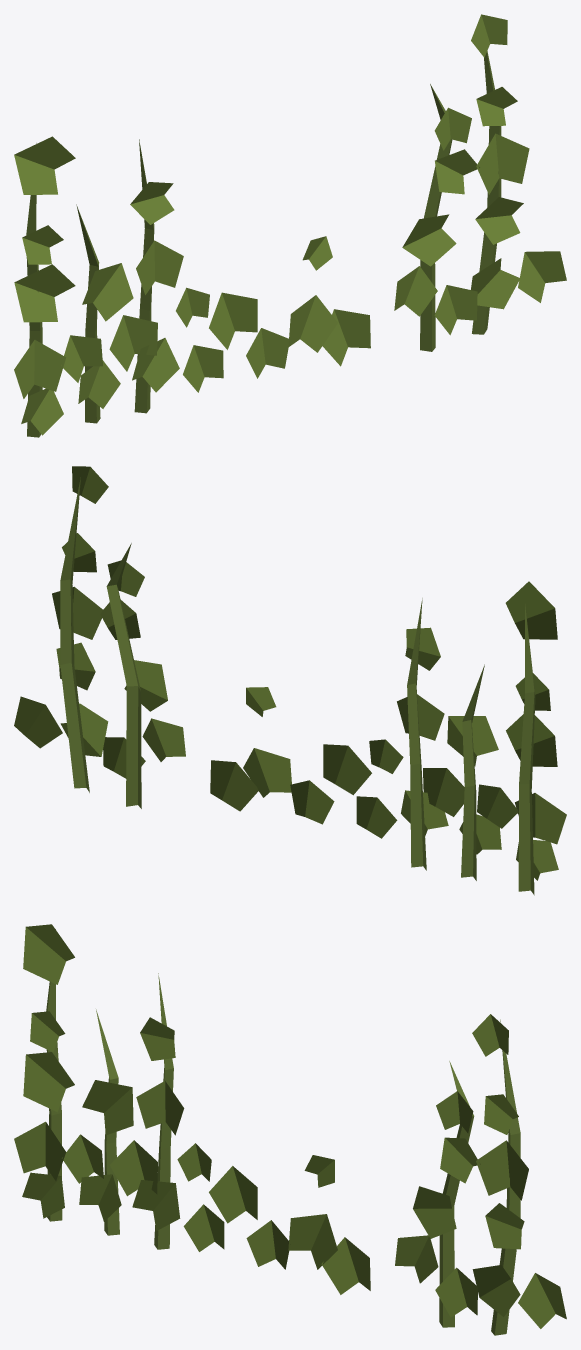
File: Creepers_1.fbx
3 renders of one model, top to bottom at view 1: azimuth 30°, elevation 25°; view 2: azimuth 150°, elevation 25°; view 3: azimuth 330°, elevation 25°, orthographic.
Visible parts, largest first — view 1: Creepers_1; view 2: Creepers_1; view 3: Creepers_1.
Part boxes in pixels (left/top/right/bottom): Creepers_1: left=14, top=14, right=566, bottom=437; Creepers_1: left=14, top=466, right=566, bottom=895; Creepers_1: left=14, top=924, right=566, bottom=1335.
Bounding box in the file's own units: 315 × 178 × 9.88.
